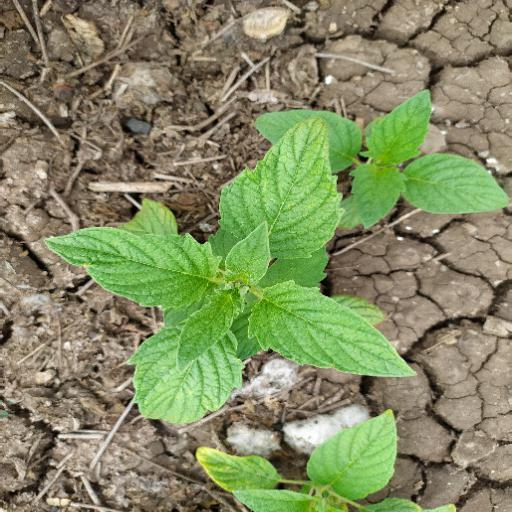crop: (33, 112, 445, 430)
